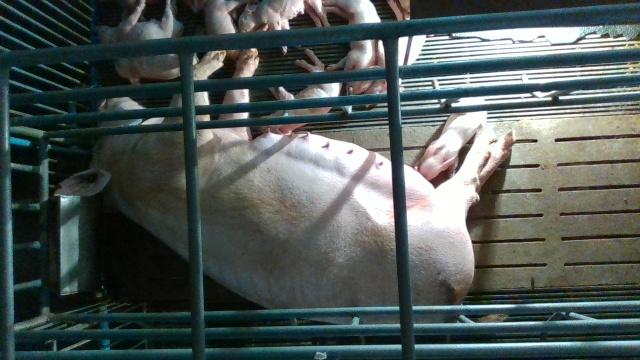piglet: (256, 48, 343, 135), (413, 97, 487, 182), (323, 0, 383, 94), (239, 0, 331, 53), (94, 0, 185, 45), (113, 50, 199, 85), (201, 0, 247, 59)
sow-sleep-lactate: (55, 48, 514, 326)
